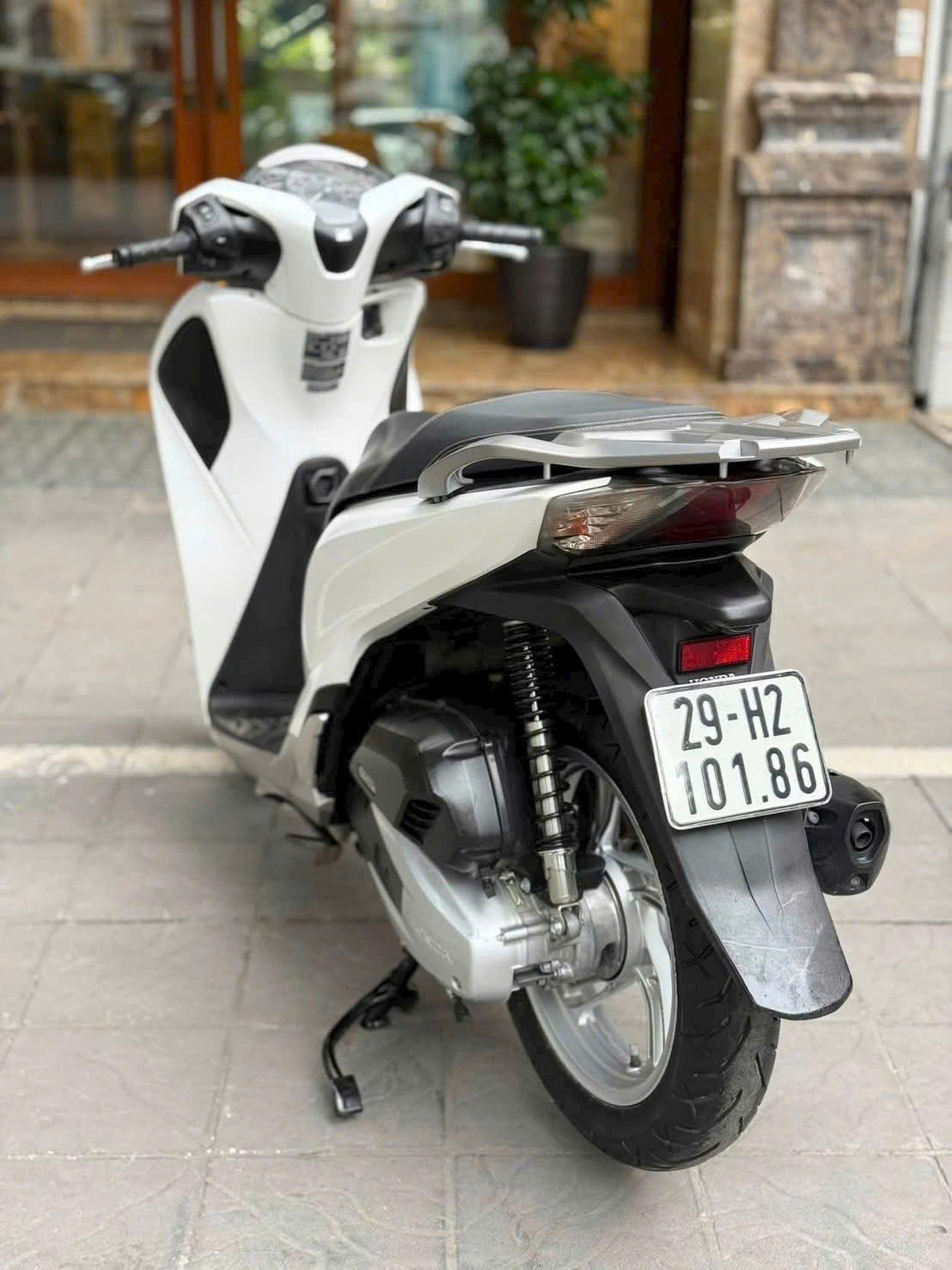Bien-so: (647, 668, 842, 834)
